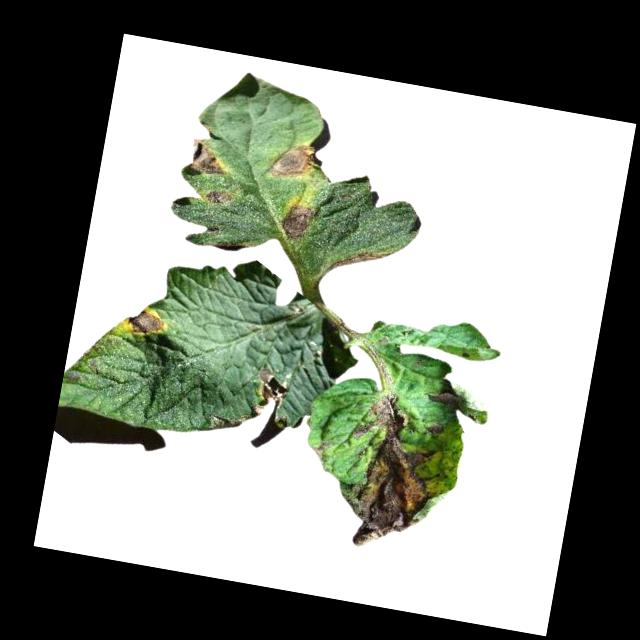Early_blight: (340, 391, 455, 562), (265, 137, 322, 186), (178, 135, 232, 182), (328, 242, 386, 280), (250, 366, 289, 422), (119, 303, 169, 340), (278, 200, 315, 241), (426, 386, 462, 409), (202, 186, 234, 209), (307, 436, 331, 458)
